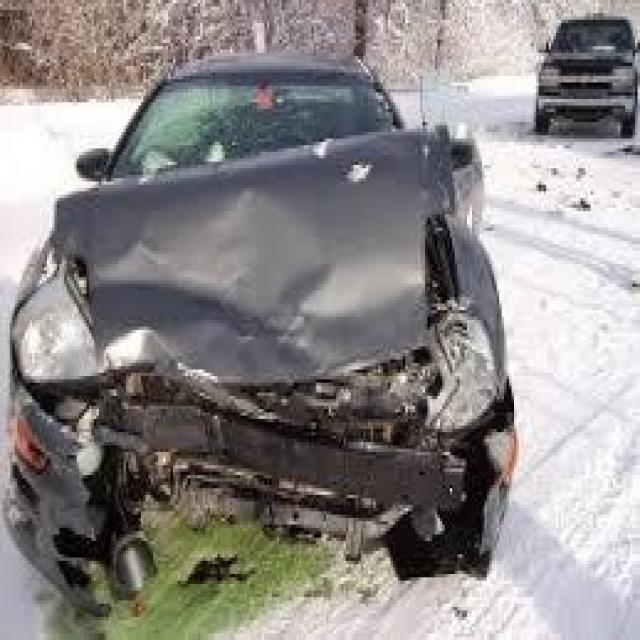damaged: (46, 158, 522, 604)
